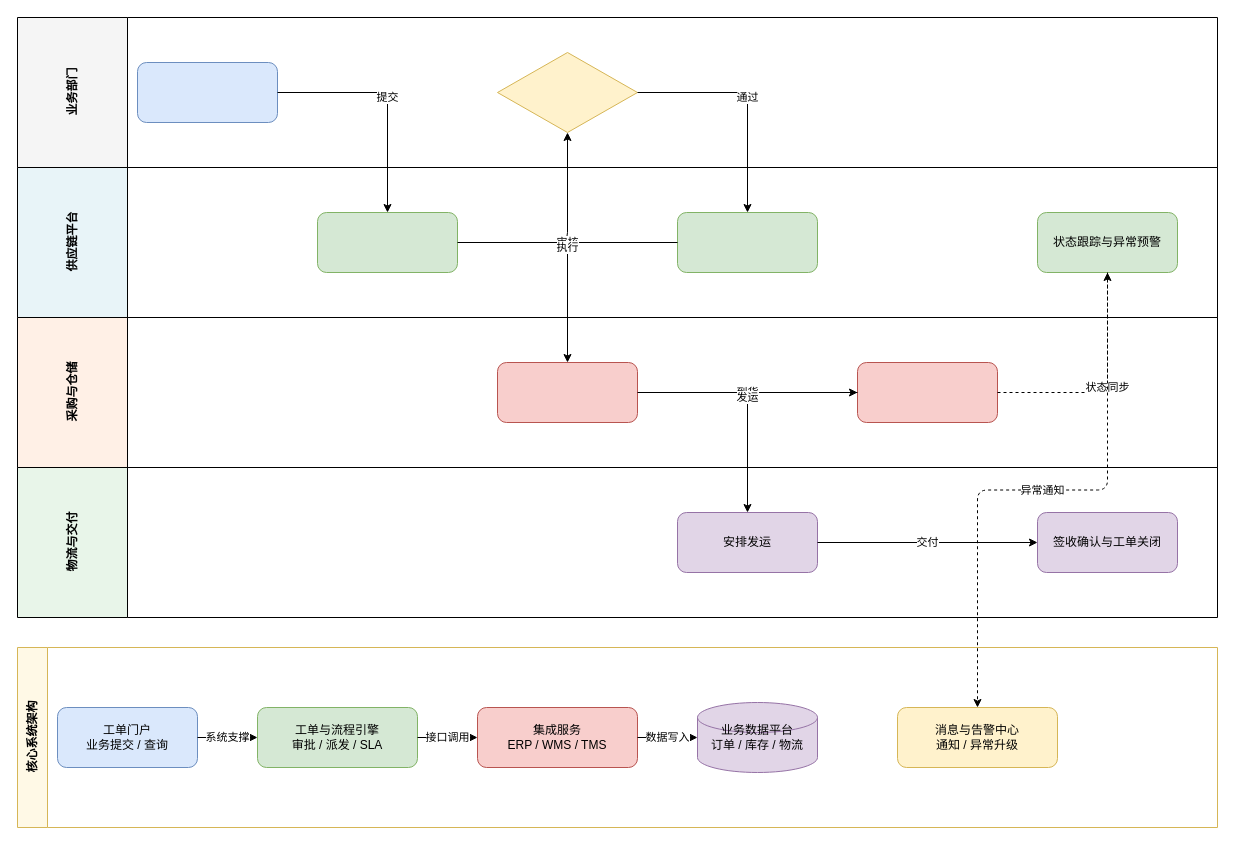
The diagram is 1235 pixels wide and 845 high, and some of its shapes have lost their labels. Each missing label, with the centre of its shape:
"业务审核" belongs at point (567, 92).
"入库与库存更新" belongs at point (927, 392).
"接收并创建工单" belongs at point (387, 242).
"提交供应链工单" belongs at point (207, 92).
"规则匹配与任务派发" belongs at point (747, 242).
"采购 / 备货" belongs at point (567, 392).
